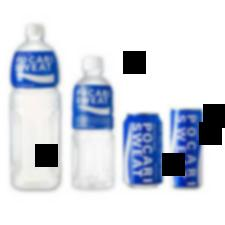pocarisweat: (70, 54, 115, 190)
